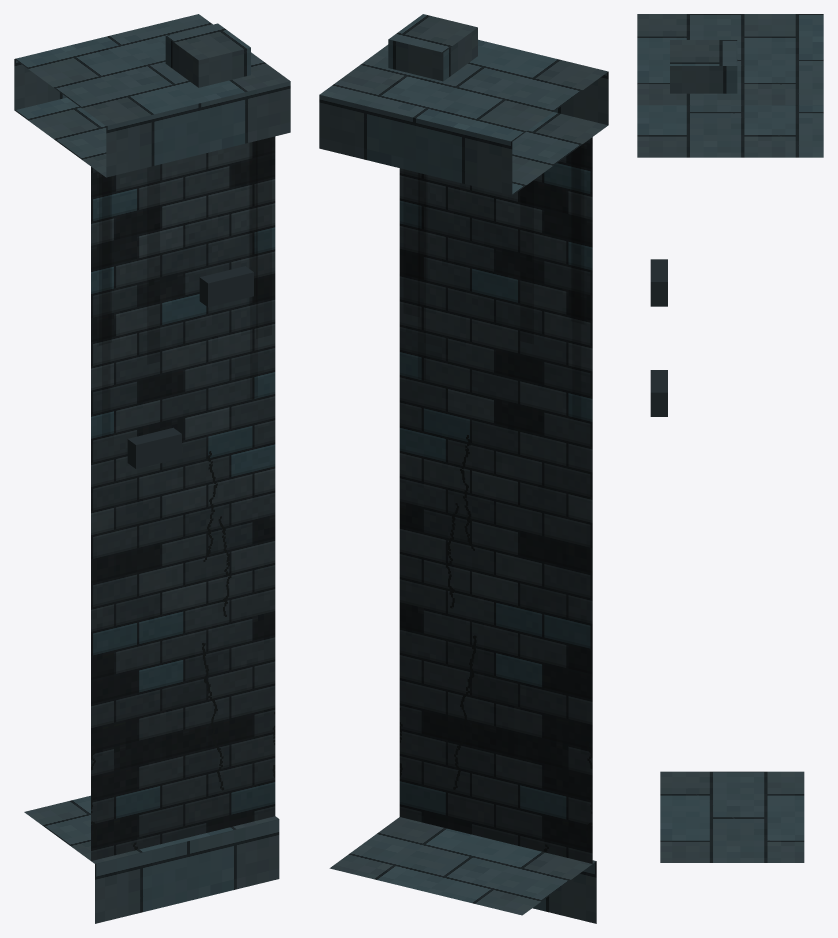
The model's file is T1_Wall_BrickB.fbx.
3 views of the same model, side by side, from view 1: azimuth 30°, elevation 25°; view 2: azimuth 150°, elevation 25°; view 3: azimuth 270°, elevation 25° (orthographic). The views are drawn at different scales.
Visible parts, largest first — view 1: T1_Wall_BrickB; view 2: T1_Wall_BrickB; view 3: T1_Wall_BrickB.
Part boxes in pixels (box(x1,y1,x2,y2)): T1_Wall_BrickB: box(14, 14, 290, 923); T1_Wall_BrickB: box(319, 14, 608, 923); T1_Wall_BrickB: box(637, 14, 823, 862).
Bounding box in the file's own units: 1.12 × 4.86 × 0.97.
